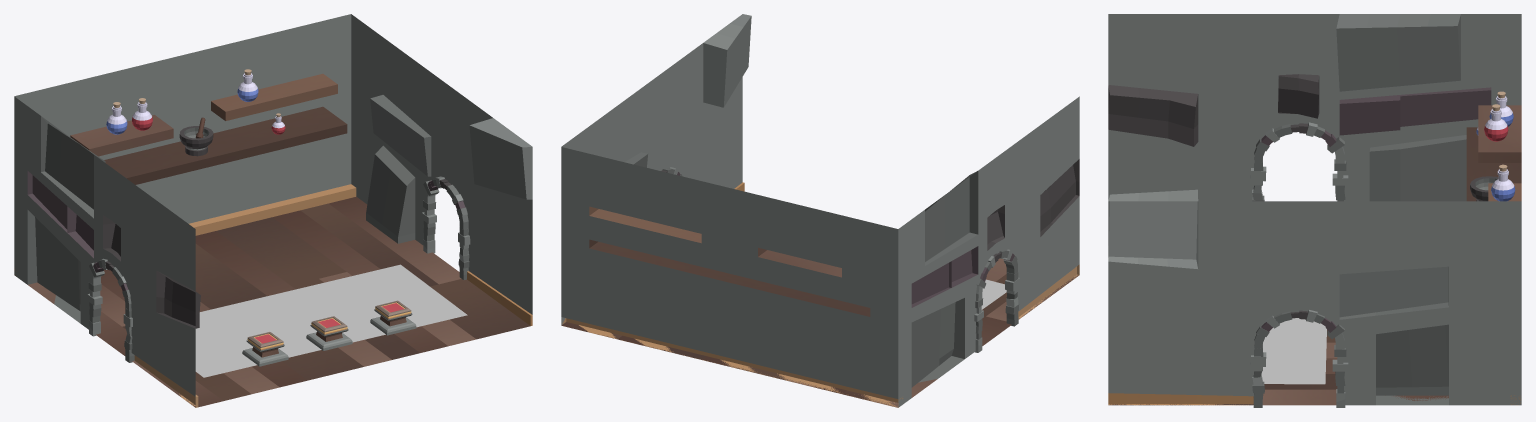
File: shop.fbx
3 renders of one model, left to right at view 1: azimuth 30°, elevation 25°; view 2: azimuth 150°, elevation 25°; view 3: azimuth 270°, elevation 25°, orthographic. The views are drawn at different scales.
Visible parts, largest first — view 1: Plane, Plane.004, Carpet, Plane.002, Frame.001, Plane.005, Pedestal.002, Pedestal.001, Sphere, Potion_mana, Potion_mana.001, Potion_health; view 2: Plane, Plane.002, Plane.005, Plane.004, Frame.001; view 3: Plane, Frame.001, Carpet, Plane.002, Plane.004, Plane.005, Potion_mana.001, Potion_health, Sphere.
Part boxes in pixels (box(x1,y1,x2,y2)): Plane: box(14, 14, 532, 396); Plane.004: box(28, 196, 530, 407); Carpet: box(195, 264, 467, 377); Plane.002: box(70, 73, 347, 184); Frame.001: box(87, 176, 470, 362); Plane.005: box(14, 184, 532, 407); Pedestal.002: box(242, 300, 416, 366); Pedestal.001: box(306, 316, 352, 350); Sphere: box(179, 126, 213, 156); Potion_mana: box(106, 102, 127, 134); Potion_mana.001: box(237, 69, 258, 101); Potion_health: box(132, 98, 152, 130); Plane: box(561, 14, 1079, 407); Plane.002: box(589, 206, 870, 316); Plane.005: box(562, 182, 1079, 407); Plane.004: box(561, 258, 1079, 407); Frame.001: box(661, 167, 1019, 352); Plane: box(1108, 14, 1521, 405); Frame.001: box(1250, 122, 1348, 407); Carpet: box(1261, 318, 1326, 384); Plane.002: box(1466, 105, 1521, 201); Plane.004: box(1109, 329, 1448, 405); Plane.005: box(1108, 393, 1521, 405); Potion_mana.001: box(1491, 164, 1515, 201); Potion_health: box(1484, 104, 1508, 141); Sphere: box(1470, 176, 1498, 201).
Bounding box in the file's own units: 2337 × 1181 × 2142.
